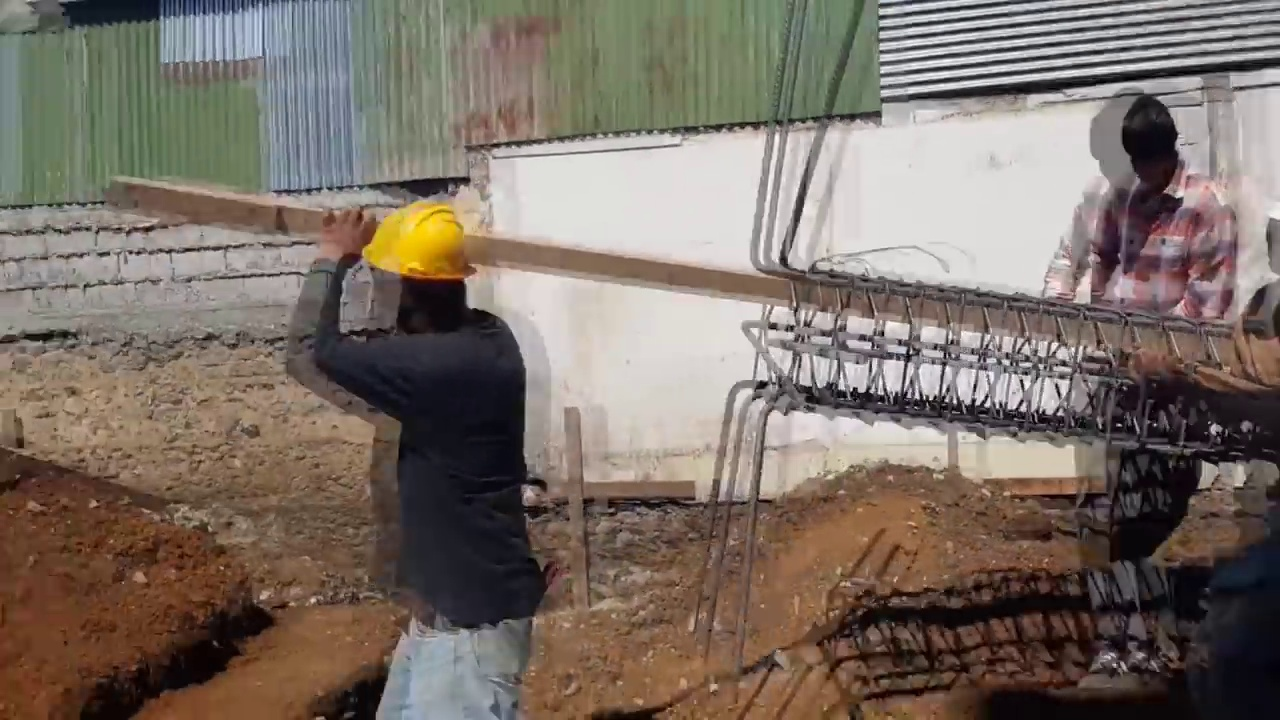helmet: (358, 197, 481, 282)
helmet-off: (1089, 93, 1182, 202)
helmet-on: (360, 194, 482, 328)
person: (284, 192, 548, 717), (1040, 94, 1239, 684)
